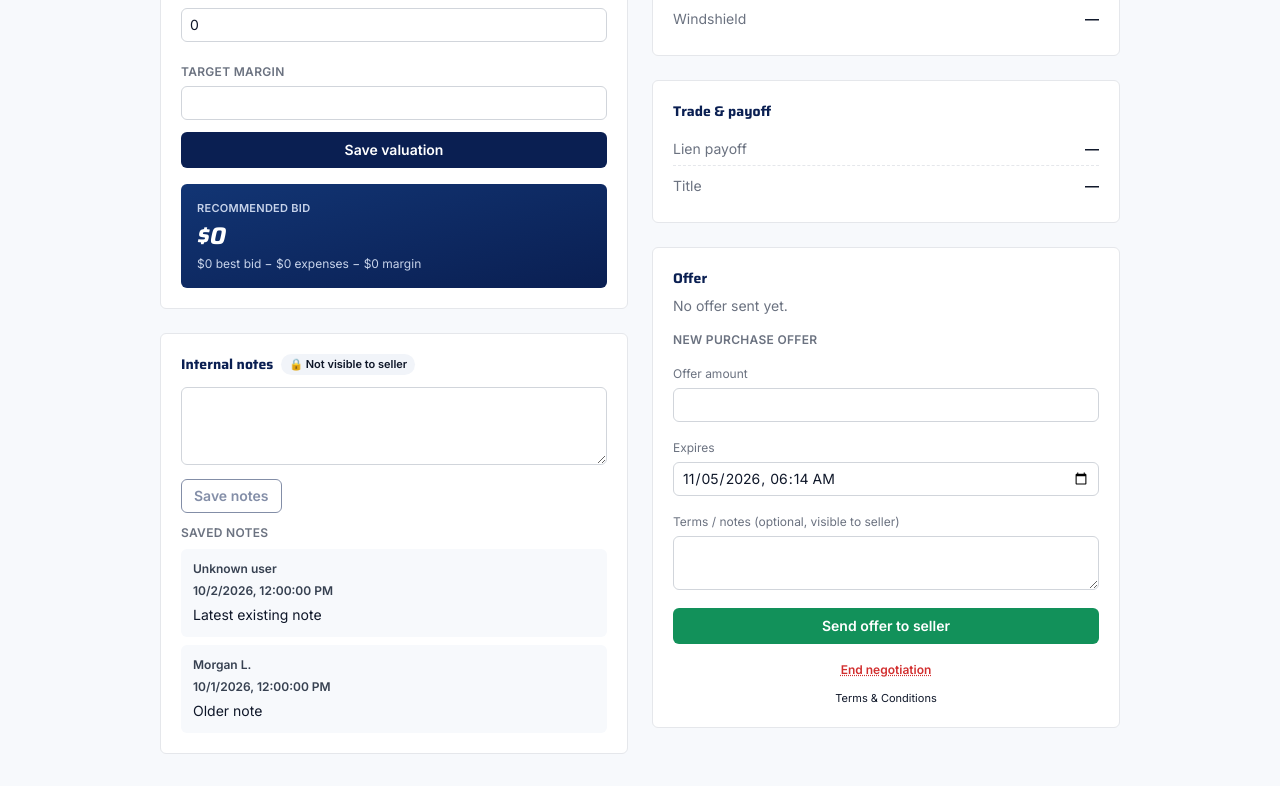
Scenario: SubmissionDetail internal notes › keeps the draft and existing history visible when saving fails
(page scrolled)
Type "Unsaved edit" into the text box named "Internal notes".
click(394, 426); type("Unsaved edit")  # box x1=181 y1=386 x2=607 y2=464
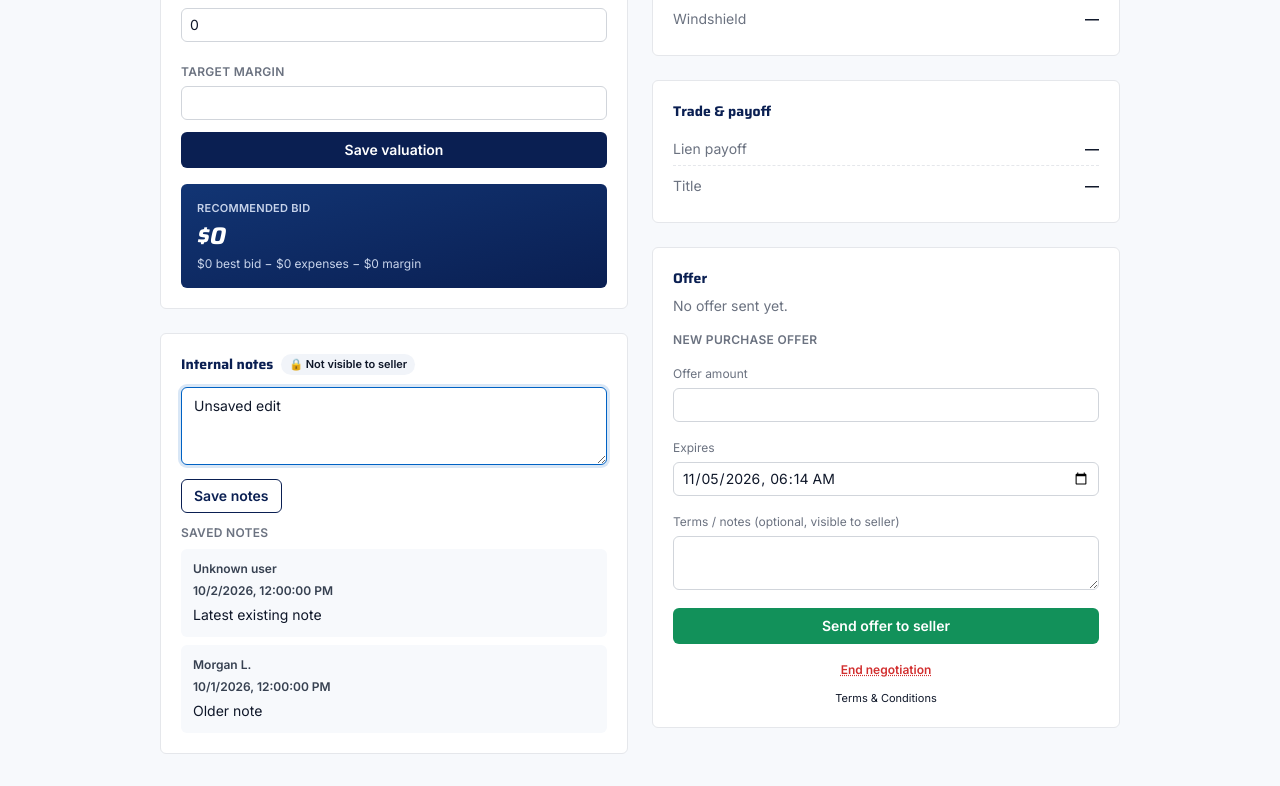
Check: the text "Latest existing note" is shown, box x1=193 y1=606 x2=322 y2=622
Click the button "Save notes".
click(231, 496)  # box x1=181 y1=478 x2=282 y2=512
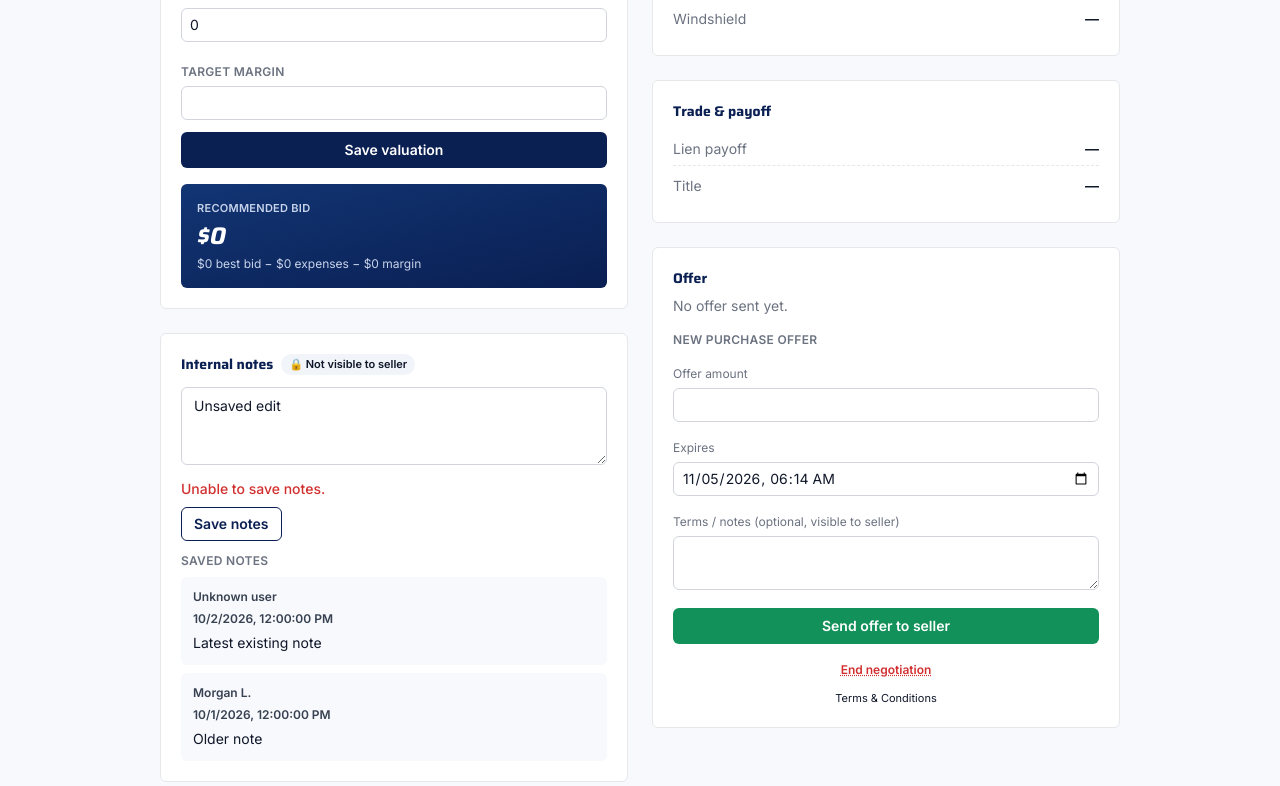
Check: the text "Latest existing note" is shown, box x1=193 y1=634 x2=322 y2=650
Check: the message reads "Unable to save notes.", box x1=181 y1=480 x2=325 y2=496
